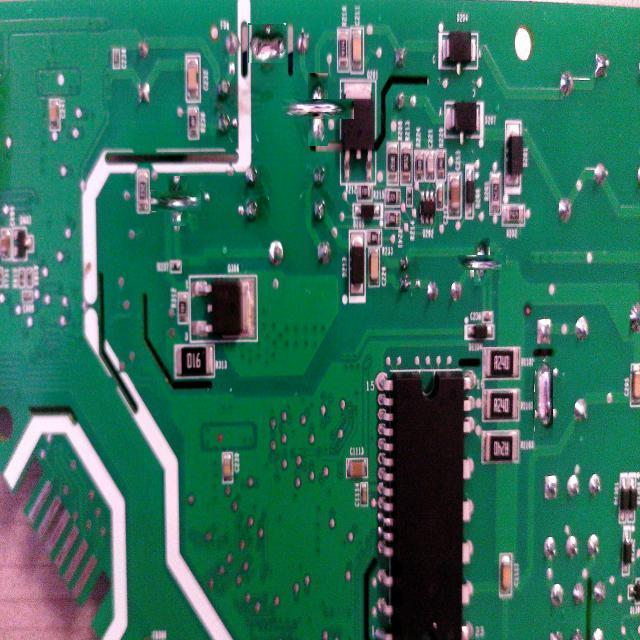Short_circuit: (295, 86, 341, 133), (248, 23, 286, 64), (534, 362, 554, 438), (159, 183, 194, 219), (466, 246, 498, 278)
